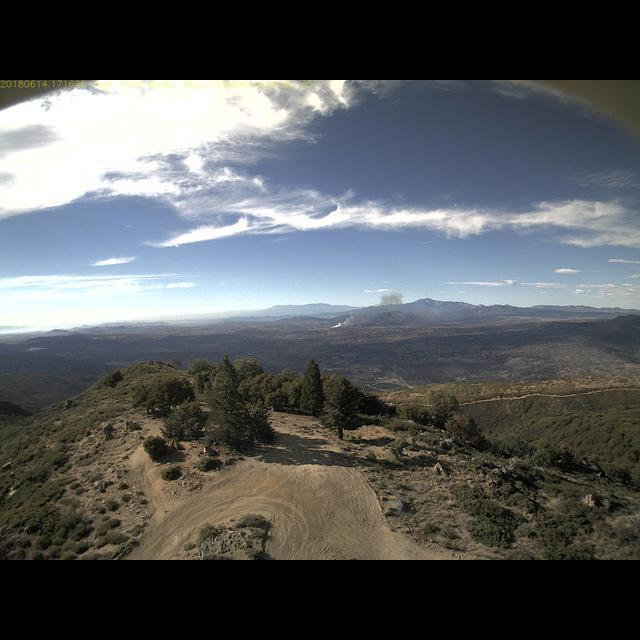Smoke: (325, 287, 406, 331)
